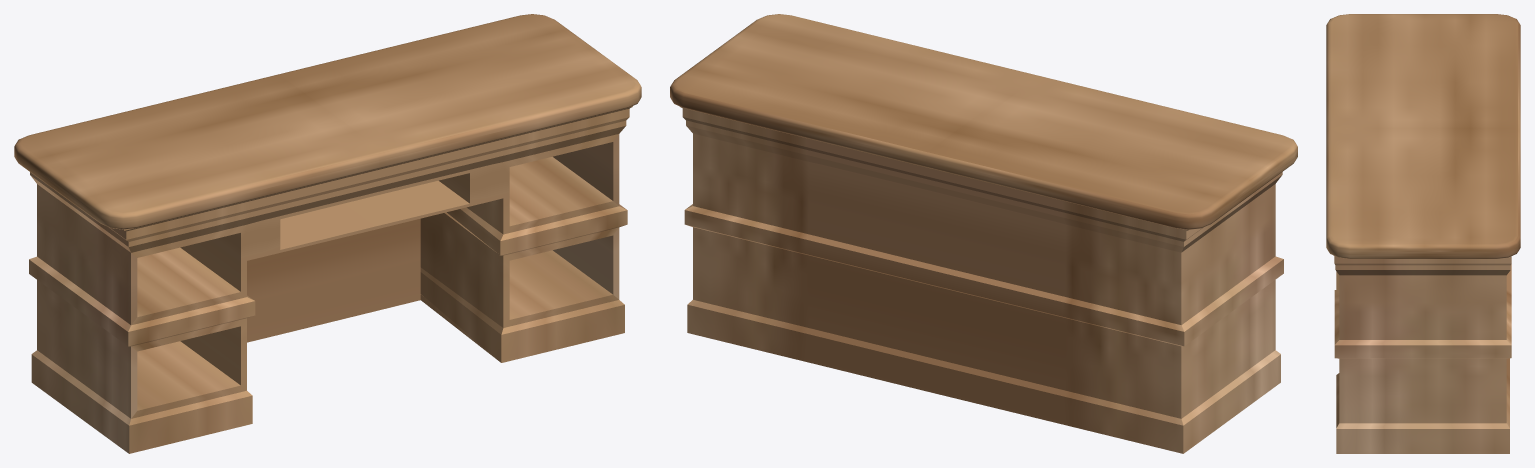
File: Desk.glb
The picture shows the model from 3 angles, left to right: view 1: azimuth 30°, elevation 25°; view 2: azimuth 150°, elevation 25°; view 3: azimuth 270°, elevation 25°; orthographic projection. The views are drawn at different scales.
Parts seen in each view (by area): view 1: Cube; view 2: Cube; view 3: Cube.
Part boxes in pixels (left/top/right/bottom): Cube: left=14, top=14, right=641, bottom=453; Cube: left=670, top=14, right=1297, bottom=453; Cube: left=1326, top=14, right=1520, bottom=453.
Bounding box in the file's own units: 8.19 × 3.55 × 2.88.
Materials: 1 (1 with a texture image).
